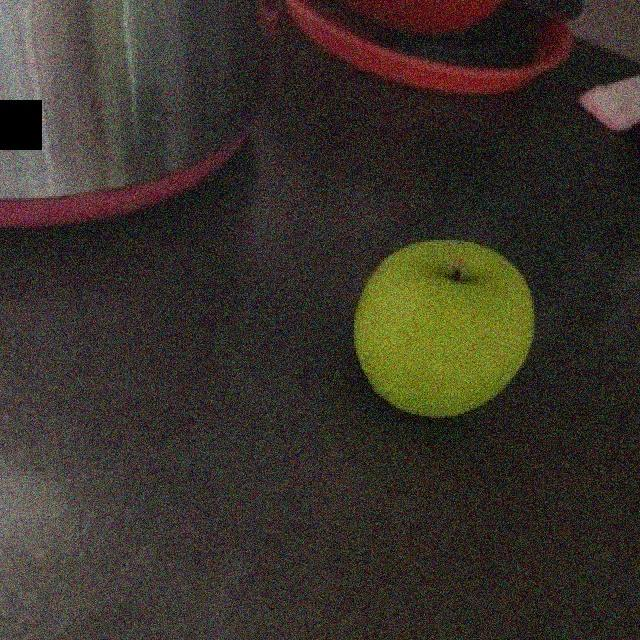green apple: (350, 238, 537, 420)
